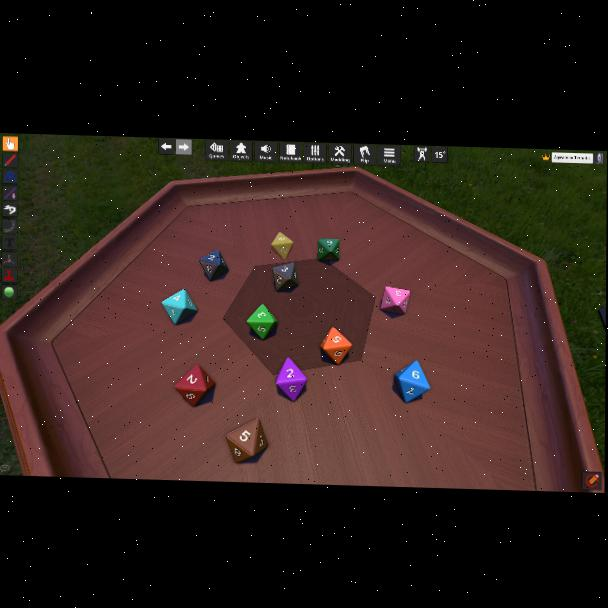d8: (226, 419, 267, 464), (175, 364, 214, 407), (394, 360, 428, 403), (163, 288, 199, 326), (276, 357, 307, 401), (321, 326, 352, 364), (247, 304, 278, 340), (198, 249, 228, 282), (380, 286, 408, 315), (272, 262, 298, 293), (271, 231, 294, 260), (317, 237, 339, 262)
